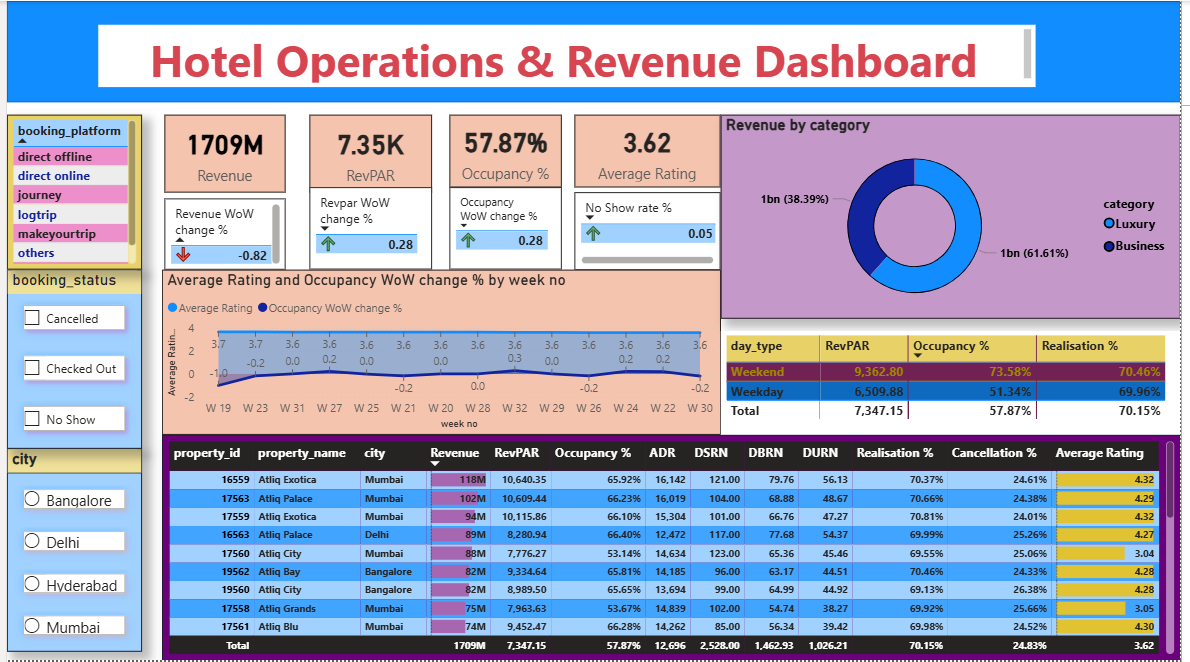

This screenshot's page, from the dashboard's own definition file:
{"tool":"powerbi","page":{"name":"Page 1","canvas":[1280,720],"ordinal":0},"visuals":[{"type":"tableEx","fields":{"Values":["dim_hotels.property_id","dim_hotels.property_name","dim_hotels.city","key_measure _table.Revenue","key_measure _table.RevPAR","key_measure _table.Occupancy %","key_measure _table.ADR","key_measure _table.DSRN","key_measure _table.DBRN","key_measure _table.DURN","key_measure _table.Realisation %","key_measure _table.Cancellation %"]},"box":[169.1,473.1,1111.2,246.8],"z":0},{"type":"listSlicer","fields":{"Values":["dim_hotels.city"]},"box":[0,488.4,147,221.2],"z":1000},{"type":"listSlicer","fields":{"Values":["fact_bookings.booking_status"]},"box":[0,293.1,147.3,195],"z":2000},{"type":"tableEx","fields":{"Values":["fact_bookings.booking_platform"]},"box":[0,124.1,147,168.6],"z":3000},{"type":"card","fields":{"Values":["key_measure _table.Revenue"]},"box":[171.8,124.1,132.3,84.5],"z":4000},{"type":"tableEx","fields":{"Values":["key_measure _table.Revenue WoW change %"]},"box":[171.8,215.4,132.3,77.7],"z":5000},{"type":"card","fields":{"Values":["key_measure _table.RevPAR"]},"box":[330,124.1,133.6,84.5],"z":6000},{"type":"tableEx","fields":{"Values":["key_measure _table.Revpar WoW change %"]},"box":[330,203.2,133.6,90],"z":7000},{"type":"card","fields":{"Values":["key_measure _table.Occupancy %"]},"box":[482.7,124.1,122.7,79.1],"z":8000},{"type":"tableEx","fields":{"Values":["key_measure _table.Occupancy WoW change %"]},"box":[482.7,203.2,122.7,90],"z":9000},{"type":"card","fields":{"Values":["key_measure _table.Average Rating"]},"box":[619,124.1,159.5,79.1],"z":10000},{"type":"tableEx","fields":{"Values":["key_measure _table.No Show rate %"]},"box":[619,208.6,159.5,84.5],"z":11000},{"type":"lineChart","fields":{"Y":["key_measure _table.Average Rating","key_measure _table.Occupancy WoW change %"],"Category":["dim_date.week no"]},"box":[169.1,293.1,609.5,180],"z":12000},{"type":"donutChart","fields":{"Y":["key_measure _table.Revenue"],"Category":["dim_hotels.category"]},"box":[778.5,124.1,501.7,222.2],"z":13000},{"type":"tableEx","fields":{"Values":["dim_date.day_type","key_measure _table.RevPAR","key_measure _table.Occupancy %","key_measure _table.Realisation %"]},"box":[778.5,360,501.7,113.2],"z":14000},{"type":"textbox","box":[289.1,0,612.2,94.1],"z":15000},{"type":"shape","box":[0,0,1280.3,110.4],"z":16000},{"type":"textbox","box":[99.5,25.9,1022.6,68.2],"z":17000}]}

Visuals, with their boxes in screenshot pixels (x1, y1, x2, y2), scaled from the page's 1280x720 canvas onto the 1190x662 screenshot:
tableEx - dim_hotels.property_id x dim_hotels.property_name: 157/435/1189/661
listSlicer - dim_hotels.city: 0/449/137/652
listSlicer - fact_bookings.booking_status: 0/269/137/449
tableEx - fact_bookings.booking_platform: 0/114/137/269
card - key_measure _table.Revenue: 160/114/283/192
tableEx - key_measure _table.Revenue WoW change %: 160/198/283/269
card - key_measure _table.RevPAR: 307/114/431/192
tableEx - key_measure _table.Revpar WoW change %: 307/187/431/270
card - key_measure _table.Occupancy %: 449/114/563/187
tableEx - key_measure _table.Occupancy WoW change %: 449/187/563/270
card - key_measure _table.Average Rating: 575/114/724/187
tableEx - key_measure _table.No Show rate %: 575/192/724/269
lineChart - key_measure _table.Average Rating x key_measure _table.Occupancy WoW change %: 157/269/724/435
donutChart - key_measure _table.Revenue x dim_hotels.category: 724/114/1189/318
tableEx - dim_date.day_type x key_measure _table.RevPAR: 724/331/1189/435
textbox: 269/0/838/87
shape: 0/0/1189/102
textbox: 93/24/1043/87
